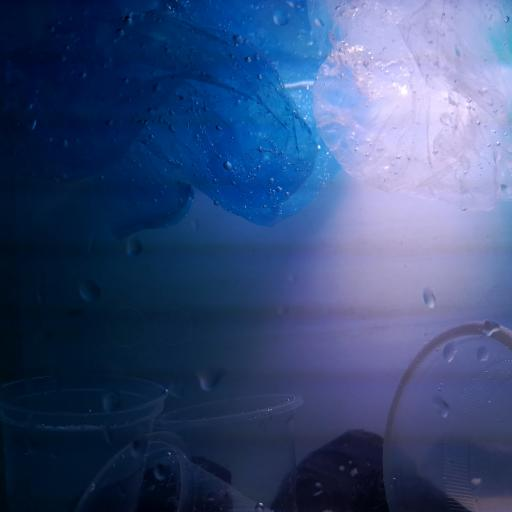plastic_bag: (0, 0, 334, 233), (309, 0, 512, 213)
plastic_cup: (381, 321, 512, 512), (1, 371, 168, 512), (156, 392, 304, 512), (72, 429, 272, 512)
